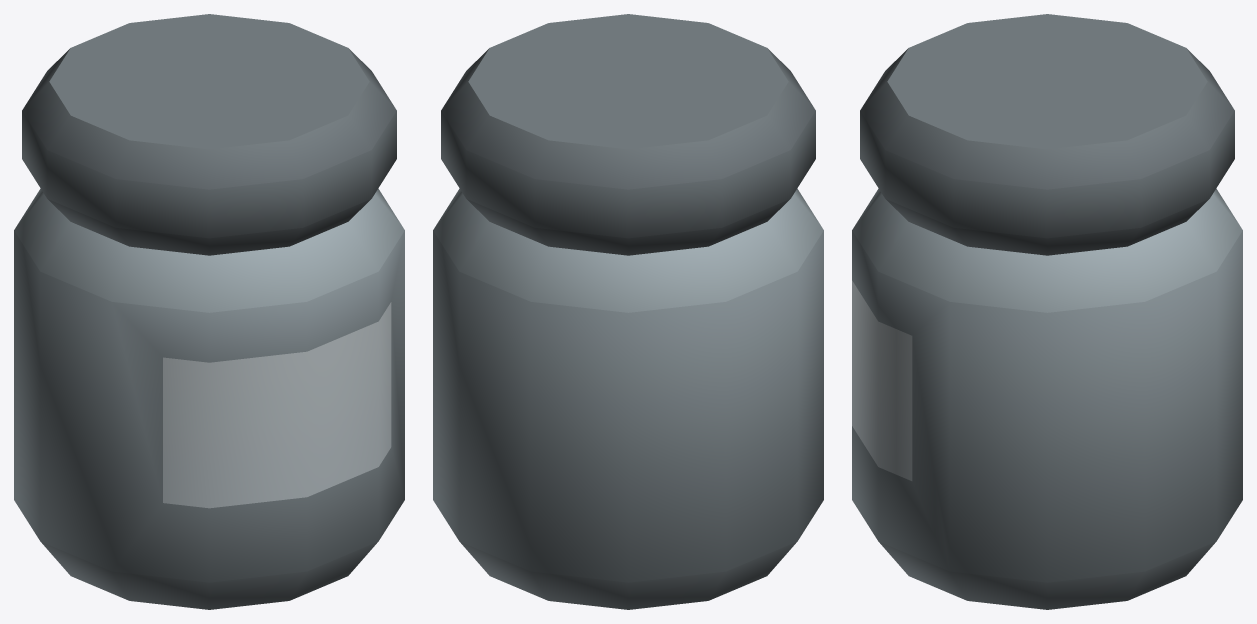
Rendered from re-jar_B_medium.glb.
The picture shows the model from 3 angles, left to right: view 1: azimuth 30°, elevation 25°; view 2: azimuth 150°, elevation 25°; view 3: azimuth 270°, elevation 25°; orthographic projection.
Visible parts, largest first — view 1: jar_B_medium; view 2: jar_B_medium; view 3: jar_B_medium.
Boxes of the visible parts, bbox=[...] form: jar_B_medium: bbox=[14, 14, 404, 609]; jar_B_medium: bbox=[433, 14, 823, 609]; jar_B_medium: bbox=[852, 14, 1242, 609].
Bounding box in the file's own units: 0.5 × 0.65 × 0.5.
Materials: 1 (1 with a texture image).
